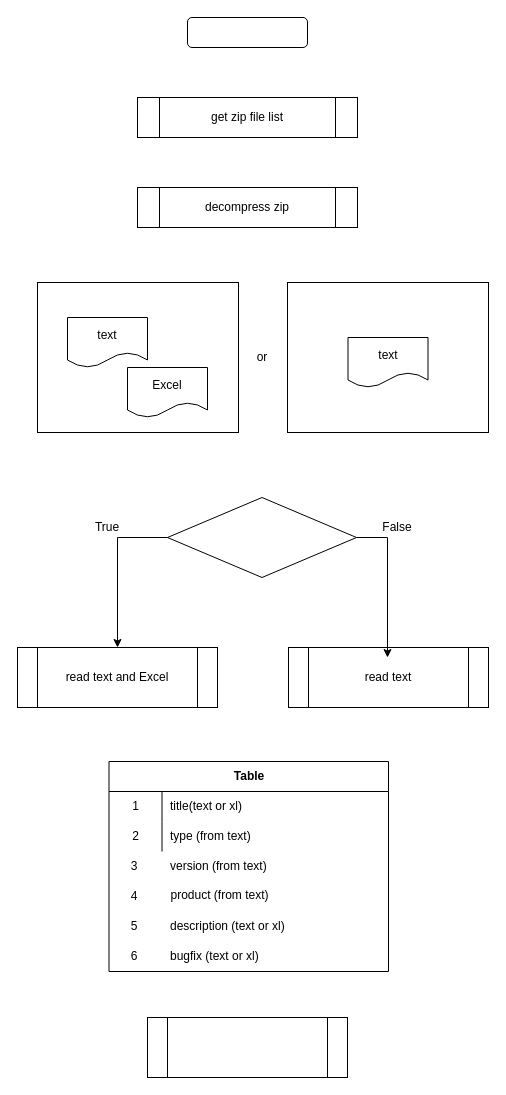
Image size: 506x1095. Some labels were removed from this diagram. Here are the shapes that lost their labels. From the top down, the centre of each, then its label:
(247,32): start
(261,537): Excel file is Exists?
(247,1047): create excel file
